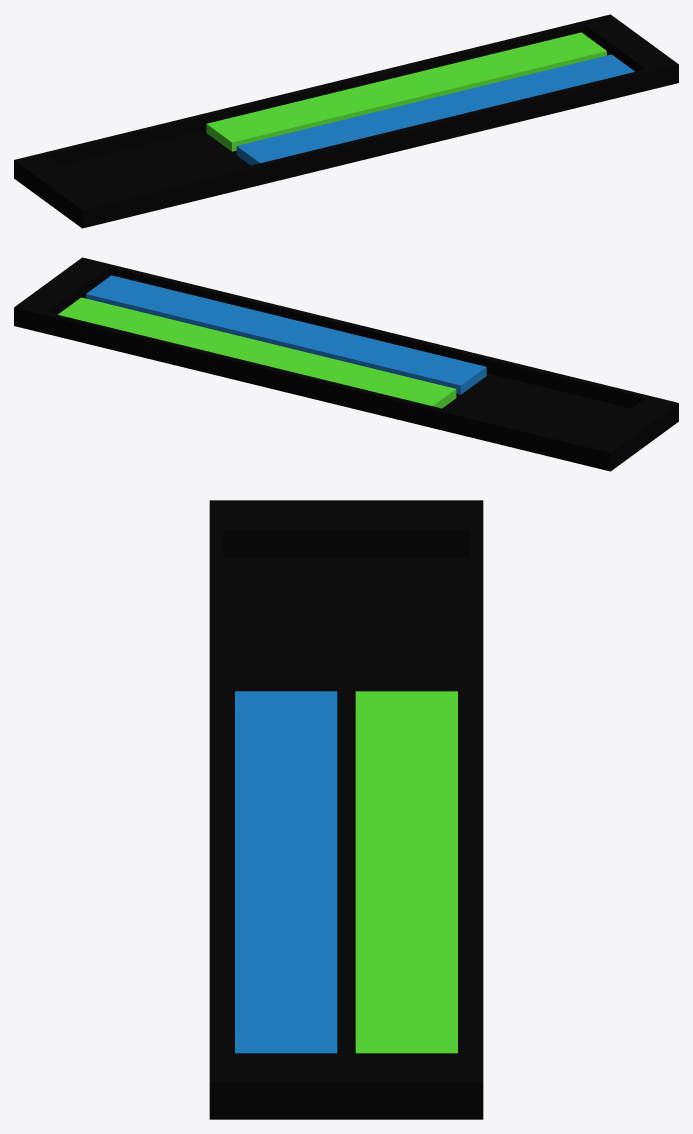
The model's file is HealthBars.fbx.
3 renders of one model, top to bottom at view 1: azimuth 30°, elevation 25°; view 2: azimuth 150°, elevation 25°; view 3: azimuth 270°, elevation 25°, orthographic. The views are drawn at different scales.
Visible parts, largest first — view 1: BarsFrame, HealthBar, ShieldsBar; view 2: BarsFrame, ShieldsBar, HealthBar; view 3: BarsFrame, HealthBar, ShieldsBar.
Boxes of the visible parts, x1,y1,x2,y2 form: BarsFrame: (14,14,678,228); HealthBar: (206,32,606,151); ShieldsBar: (236,54,634,165); BarsFrame: (14,257,678,471); ShieldsBar: (86,275,486,394); HealthBar: (58,297,456,408); BarsFrame: (209,500,483,1119); HealthBar: (355,691,457,1053); ShieldsBar: (235,691,337,1053).
Size of the model in its own units: 673 by 20 by 134.
